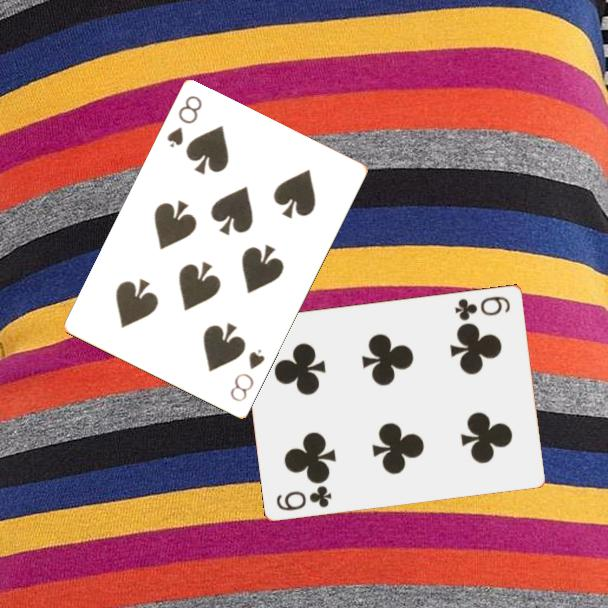c06: (273, 482, 335, 513), (452, 292, 513, 323)
s08: (163, 92, 205, 151), (227, 346, 268, 405)
